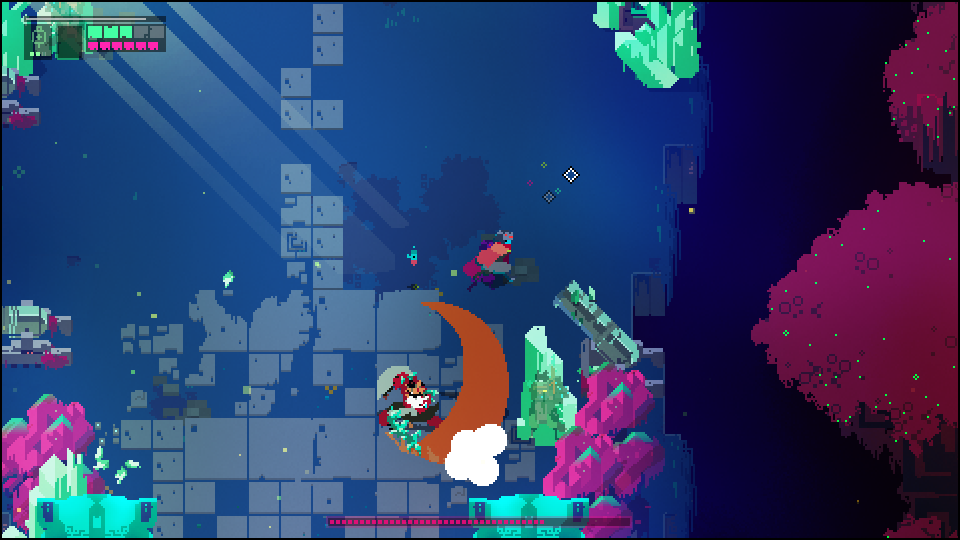hanged_man: (370, 355, 446, 459)
player: (476, 226, 515, 286)
